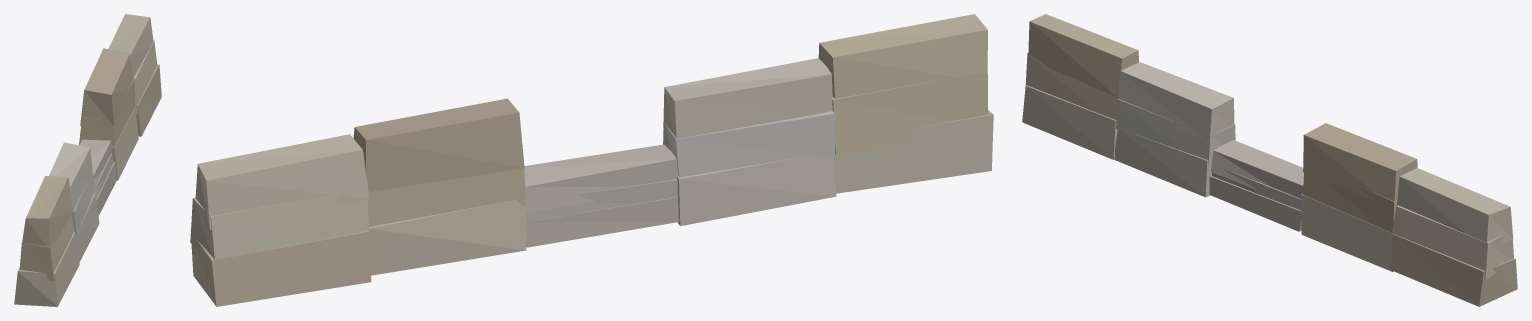
File: farm_4_-3_mid.glb
The picture shows the model from 3 angles, left to right: view 1: azimuth 30°, elevation 25°; view 2: azimuth 150°, elevation 25°; view 3: azimuth 270°, elevation 25°; orthographic projection. The views are drawn at different scales.
Parts seen in each view (by area): view 1: geometry_0; view 2: geometry_0; view 3: geometry_0.
Boxes of the visible parts, box(x1,y1,x2,y2) form: geometry_0: box(14, 14, 161, 306); geometry_0: box(190, 14, 993, 306); geometry_0: box(1022, 14, 1517, 306).
Size of the model in its own units: 5.73 by 1.66 by 6.52.
